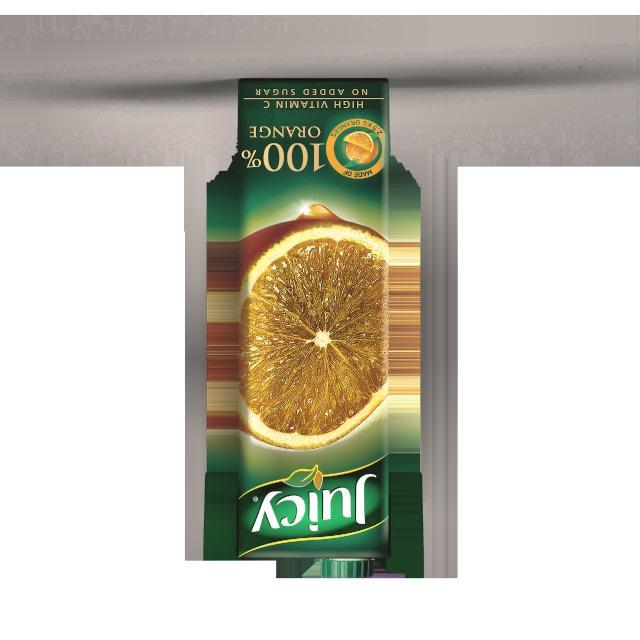cardboard: (193, 79, 429, 577)
